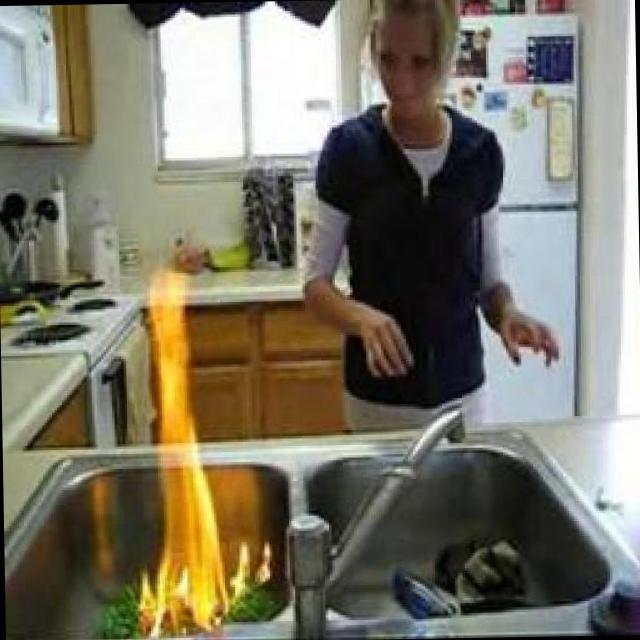Fire: (132, 272, 228, 634), (225, 541, 273, 593)
